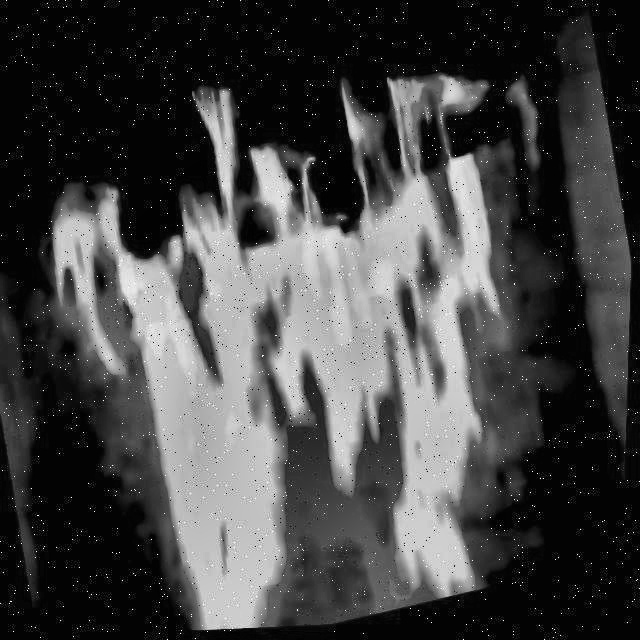Fire: (3, 0, 636, 639)
